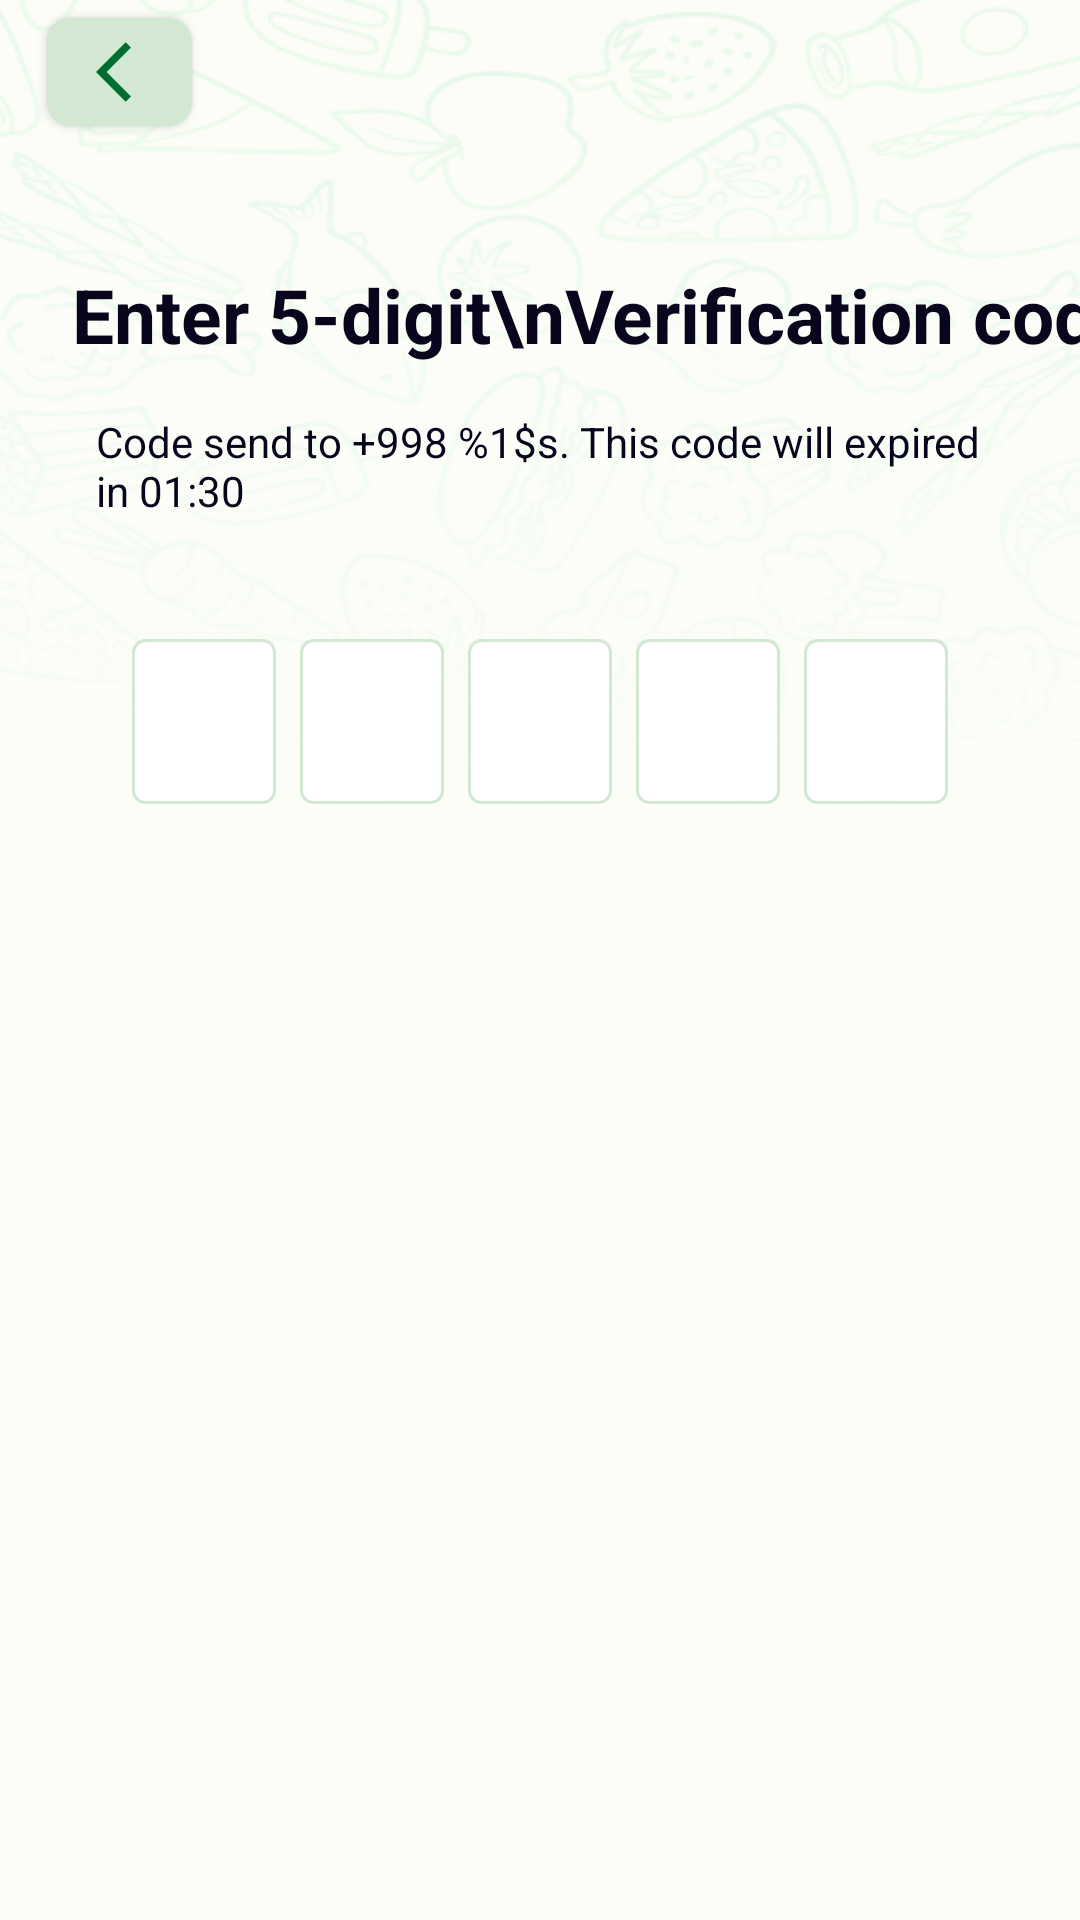

Icon click points for this 1080px×1920px phone screenshot, format (x,y):
back: (120,72)
